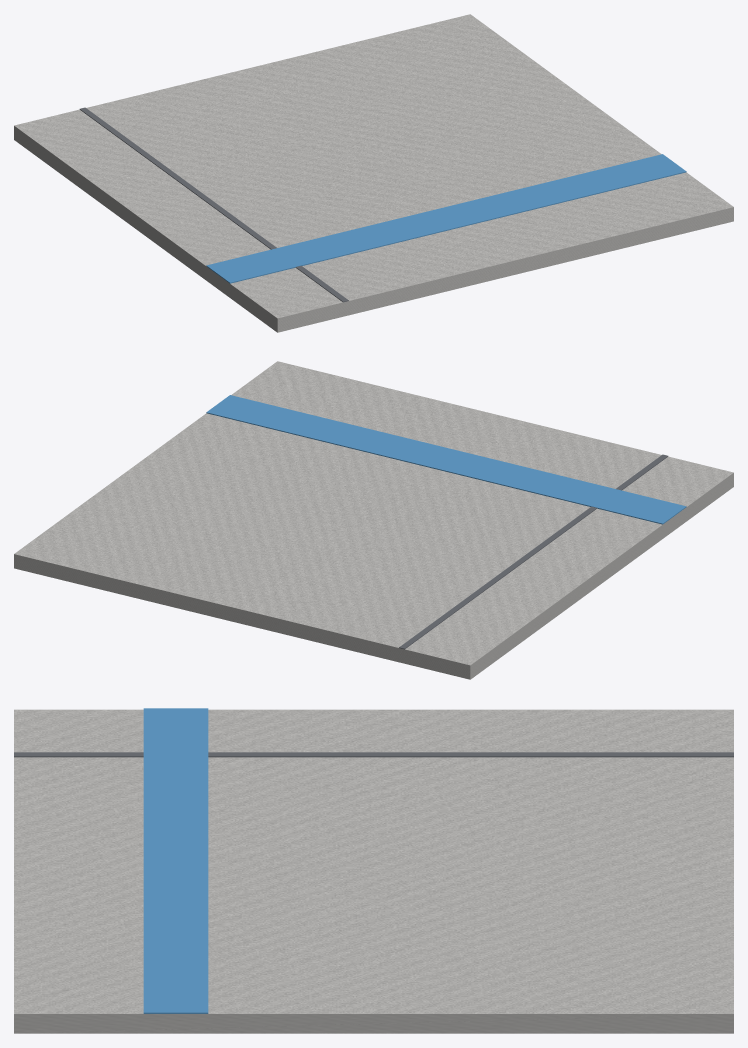
File: ferry-terminal-and-harbour-crossing-ferry-terminal-and-751a6e3f__35625.glb
3 views of the same model, one above another, from view 1: azimuth 30°, elevation 25°; view 2: azimuth 150°, elevation 25°; view 3: azimuth 270°, elevation 25° (orthographic). The views are drawn at different scales.
Visible parts, largest first — view 1: ferry-terminal-and-harbour-crossing-terminal-floor-tile; view 2: ferry-terminal-and-harbour-crossing-terminal-floor-tile; view 3: ferry-terminal-and-harbour-crossing-terminal-floor-tile.
Part boxes in pixels (left/top/right/bottom): ferry-terminal-and-harbour-crossing-terminal-floor-tile: left=14, top=14, right=733, bottom=332; ferry-terminal-and-harbour-crossing-terminal-floor-tile: left=14, top=361, right=733, bottom=679; ferry-terminal-and-harbour-crossing-terminal-floor-tile: left=14, top=708, right=733, bottom=1033.
Size of the model in its own units: 4 by 0.128 by 4.
3 materials, 1 textured.
